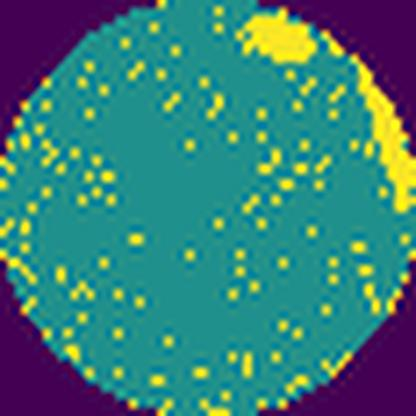Edge-Loc: (346, 43, 416, 214), (237, 0, 316, 66)
